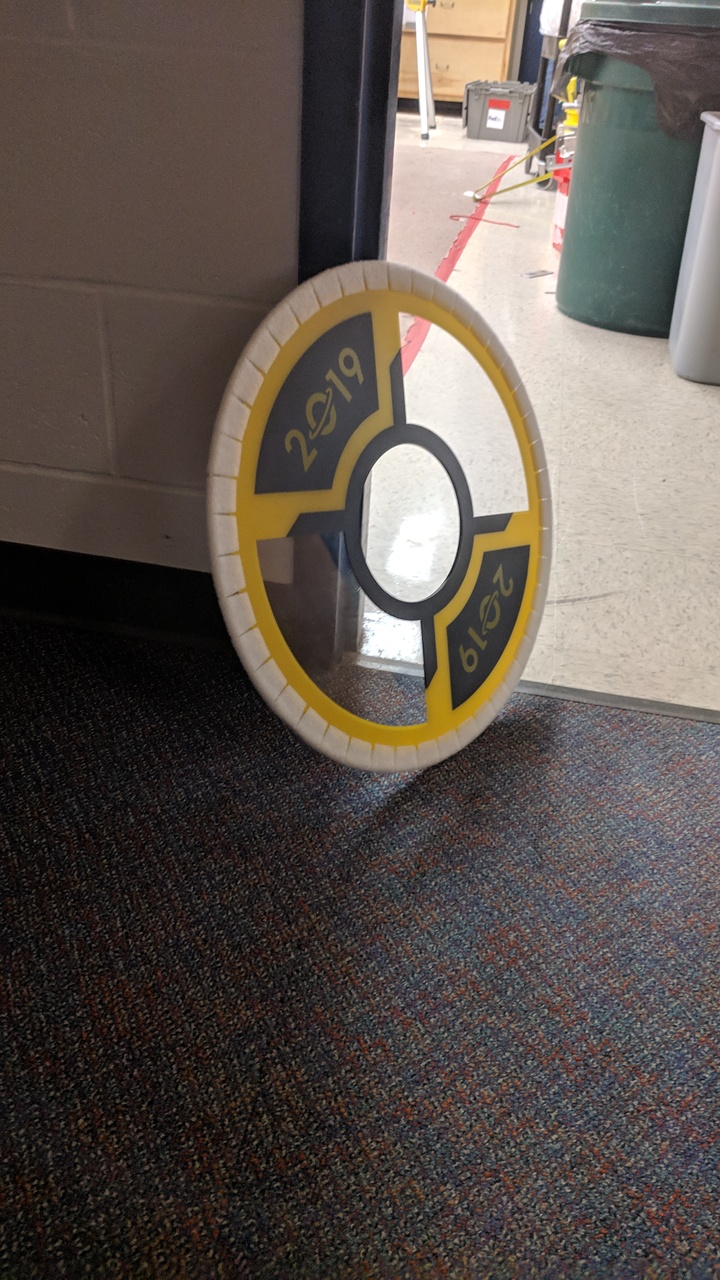hatch_panel: (200, 253, 563, 780)
